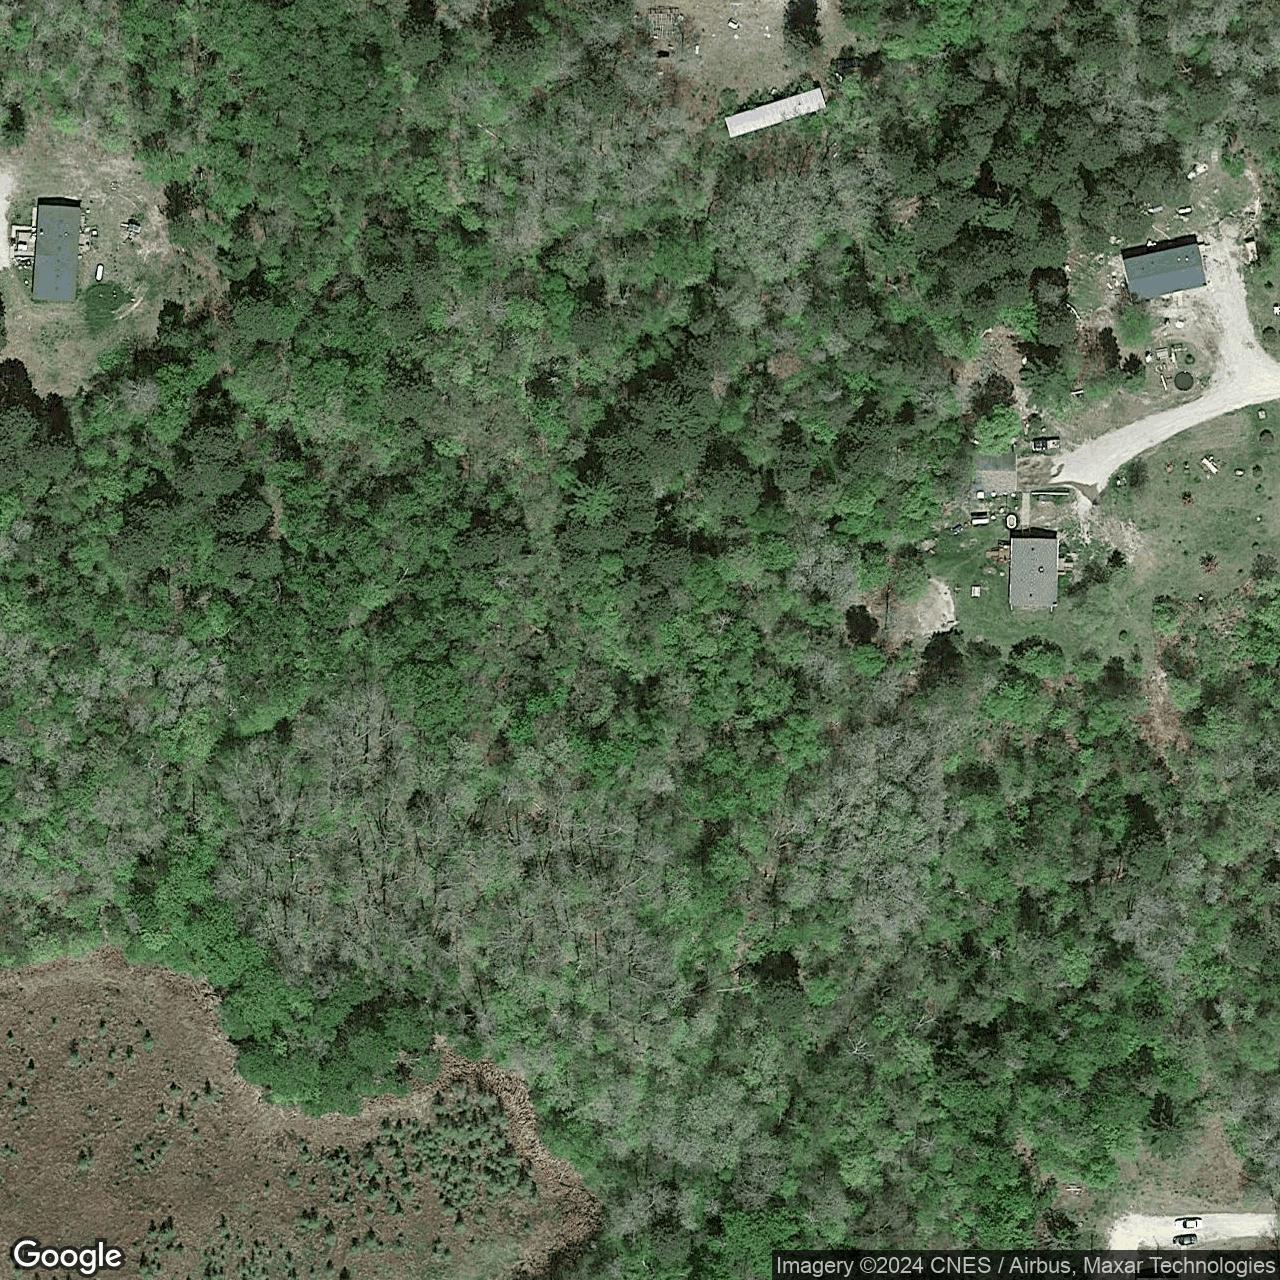Garage: (972, 451, 1020, 496)
House: (1123, 240, 1208, 304), (29, 203, 83, 302), (1008, 535, 1061, 611)
Propane: (969, 515, 993, 529), (1173, 204, 1197, 217), (93, 261, 107, 282)
Trailer: (724, 86, 829, 139)
